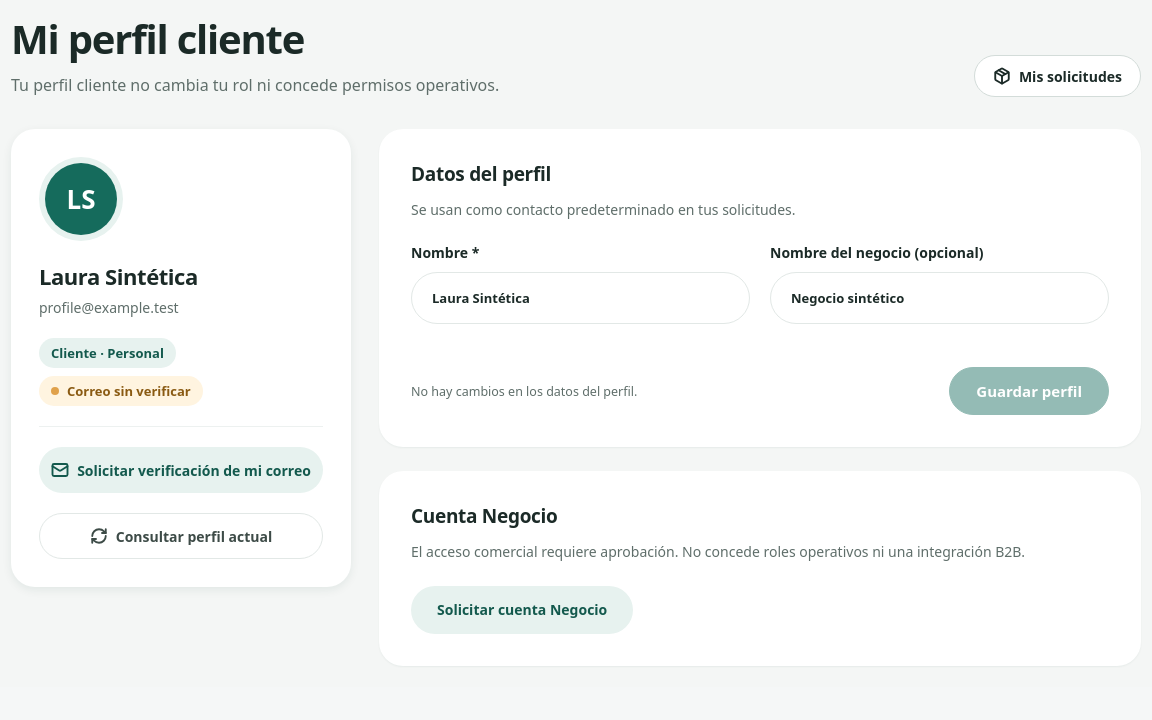
Test case: does not allow clearing an existing business name unsupported by DTO
The width and height of the screenshot is (1152, 720).
Expected: the field showing "Laura Sintética" is shown, [411, 272, 750, 324]
Clear the field labelled "Nombre del negocio (opcional)" at (940, 298), box [770, 272, 1109, 324]
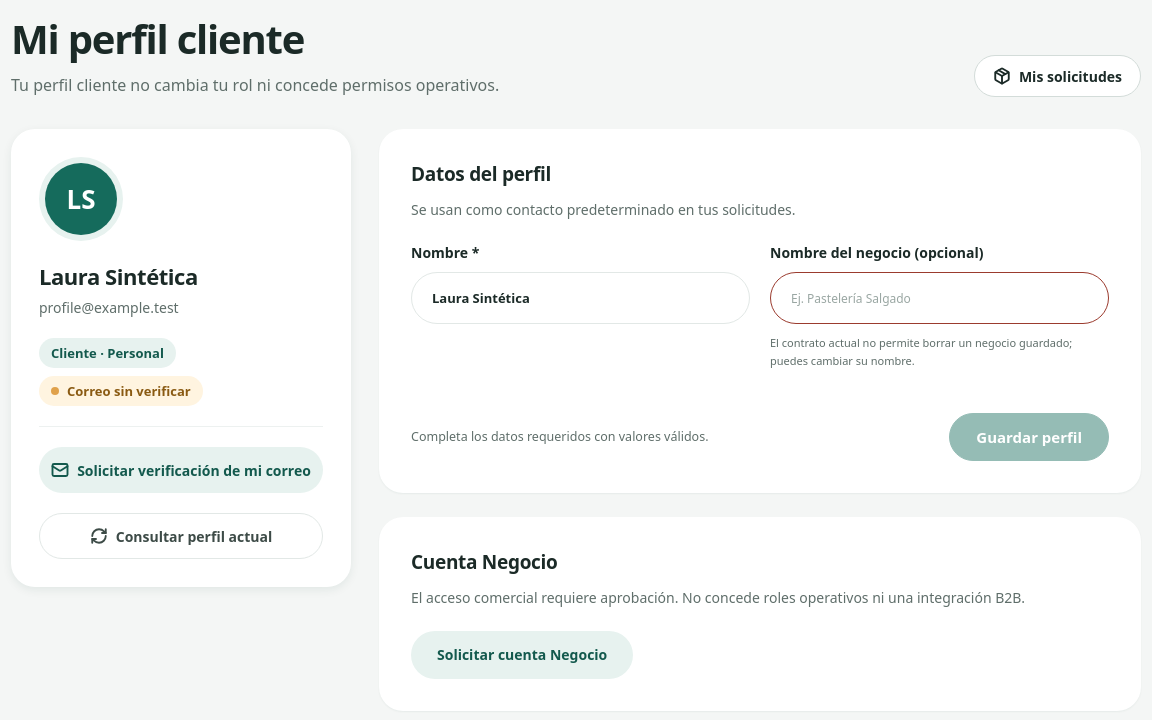
Expected: the button "Guardar perfil" is disabled, [949, 413, 1109, 461]
Expected: the text "no permite borrar" is shown, [770, 335, 1072, 368]
